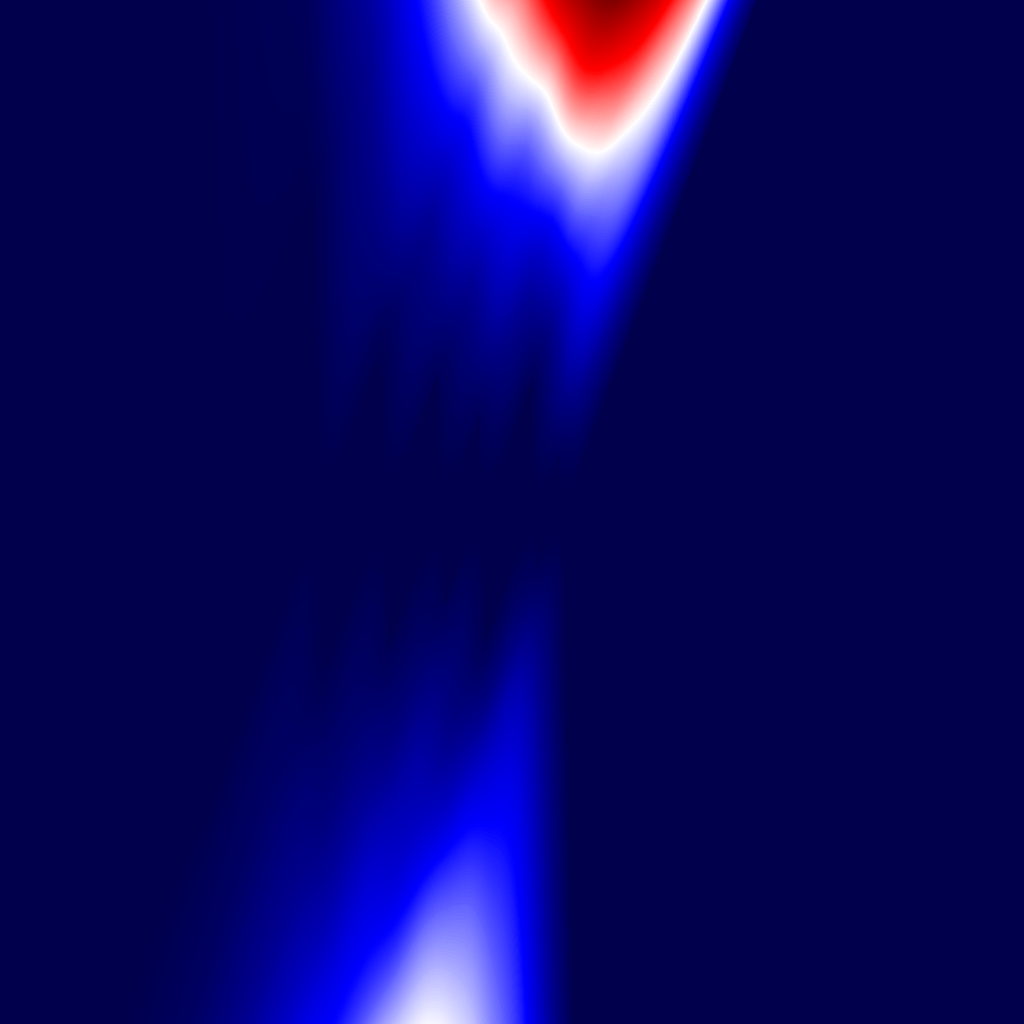diamond: (197, 198, 323, 826), (324, 355, 387, 669), (387, 370, 444, 654), (485, 378, 539, 646), (445, 413, 485, 611), (540, 452, 564, 572)
